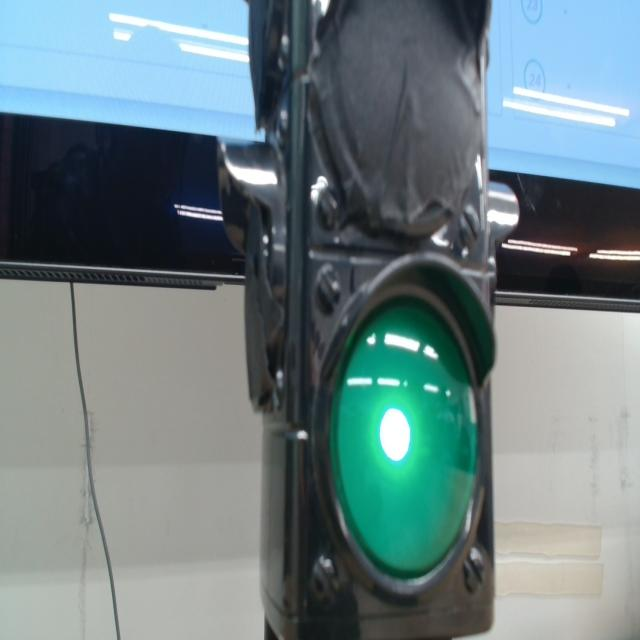green_light: (331, 299, 477, 578), (380, 408, 410, 461)
